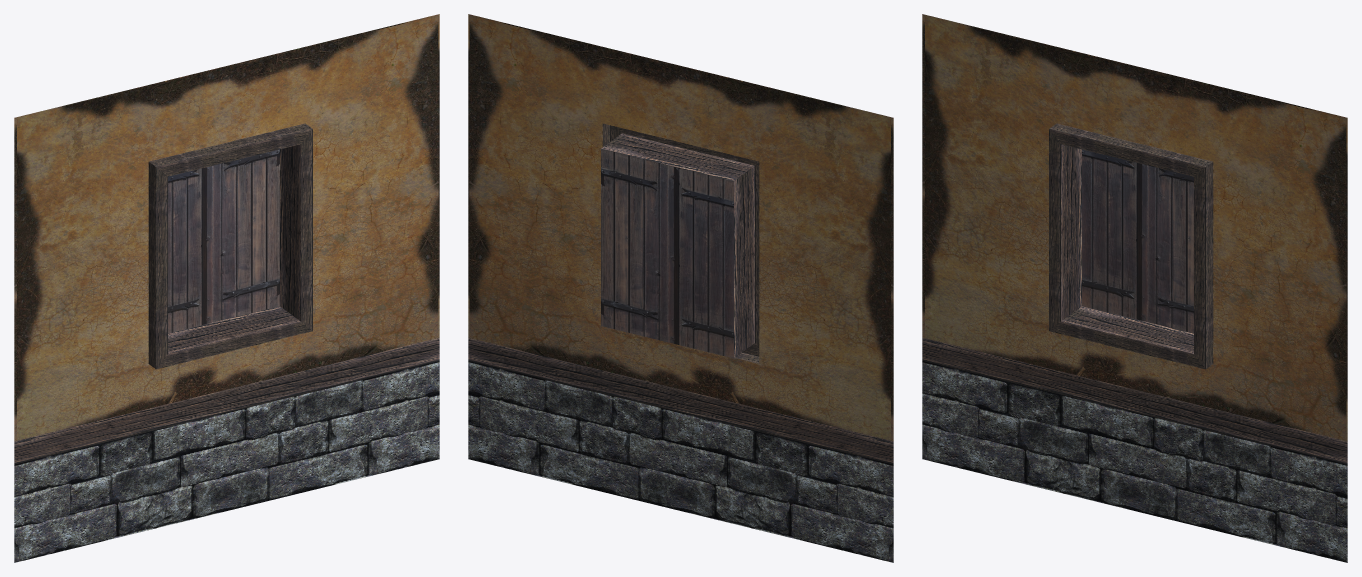
The model's file is House 1 Wall Window.FBX.
The picture shows the model from 3 angles, left to right: view 1: azimuth 30°, elevation 25°; view 2: azimuth 150°, elevation 25°; view 3: azimuth 330°, elevation 25°; orthographic projection.
Parts seen in each view (by area): view 1: Zid prozor 07; view 2: Zid prozor 07; view 3: Zid prozor 07.
Part boxes in pixels (box(x1,y1,x2,y2)): Zid prozor 07: box(14, 14, 439, 562); Zid prozor 07: box(468, 14, 893, 562); Zid prozor 07: box(922, 14, 1347, 562).
Bounding box in the file's own units: 236 × 236 × 20.23.
4 materials, 4 textured.
